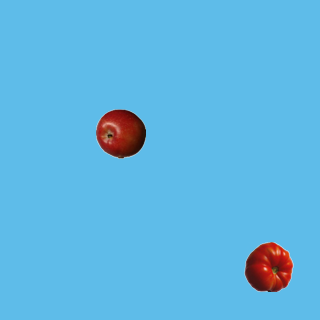Apple Braeburn: (95, 108, 145, 158)
Tomato 3: (243, 241, 293, 291)
